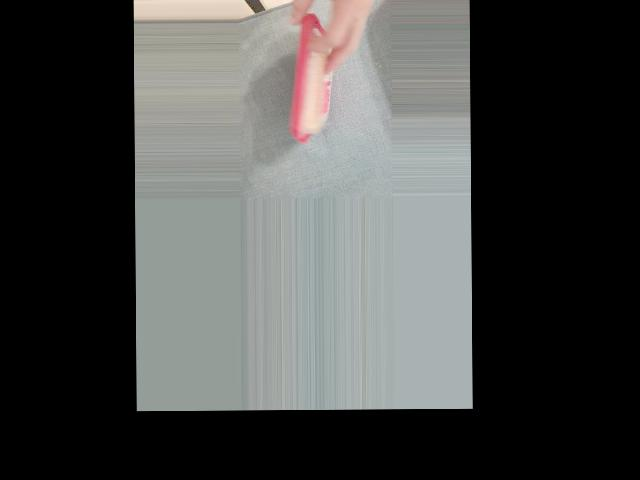cheese: (290, 12, 340, 142)
